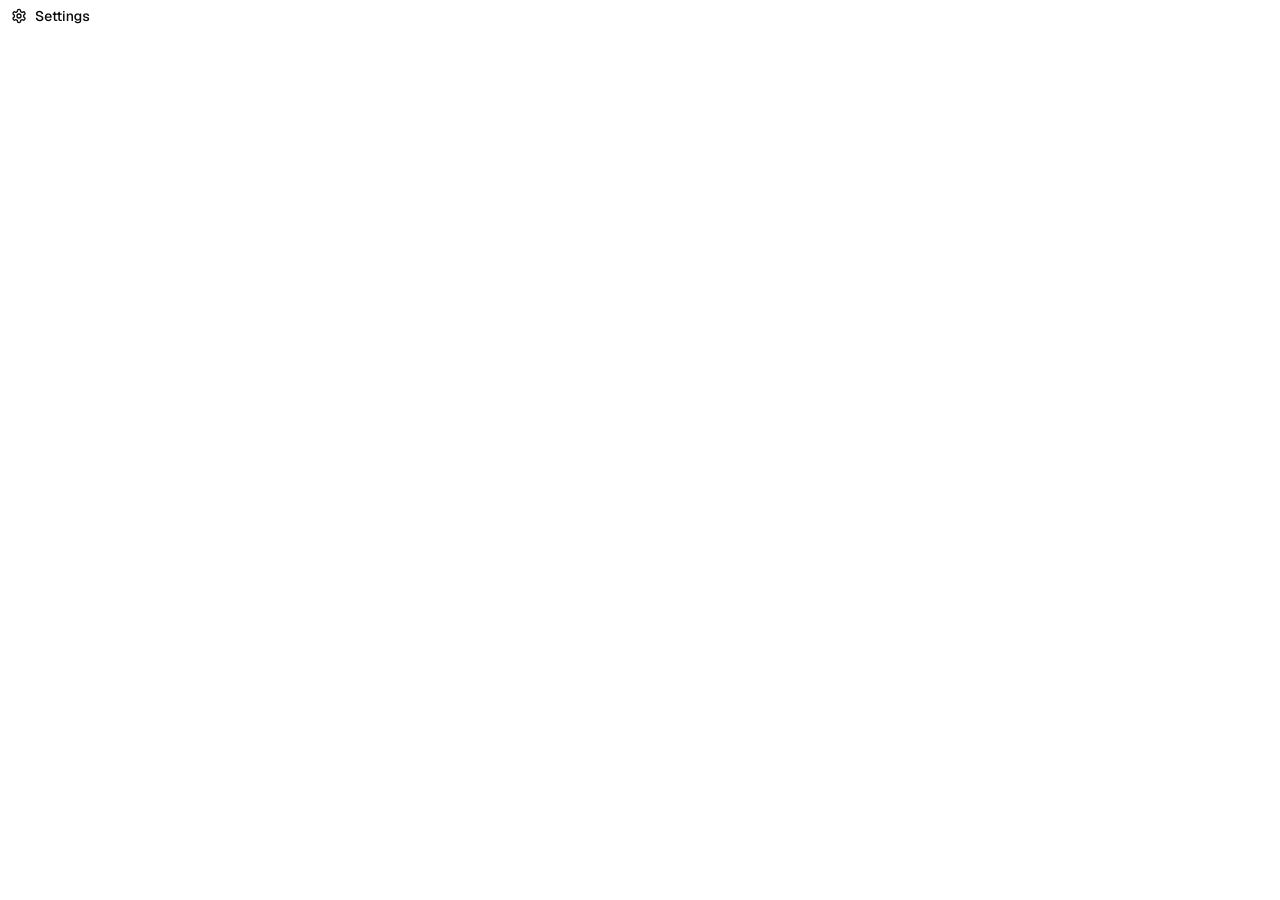
Scenario: the Settings menu entry › opens a panel that actually renders when the item is picked
This screenshot has width=1280, height=900.
Press Enter in the button "Settings", box x1=0 y1=0 x2=1279 y2=32
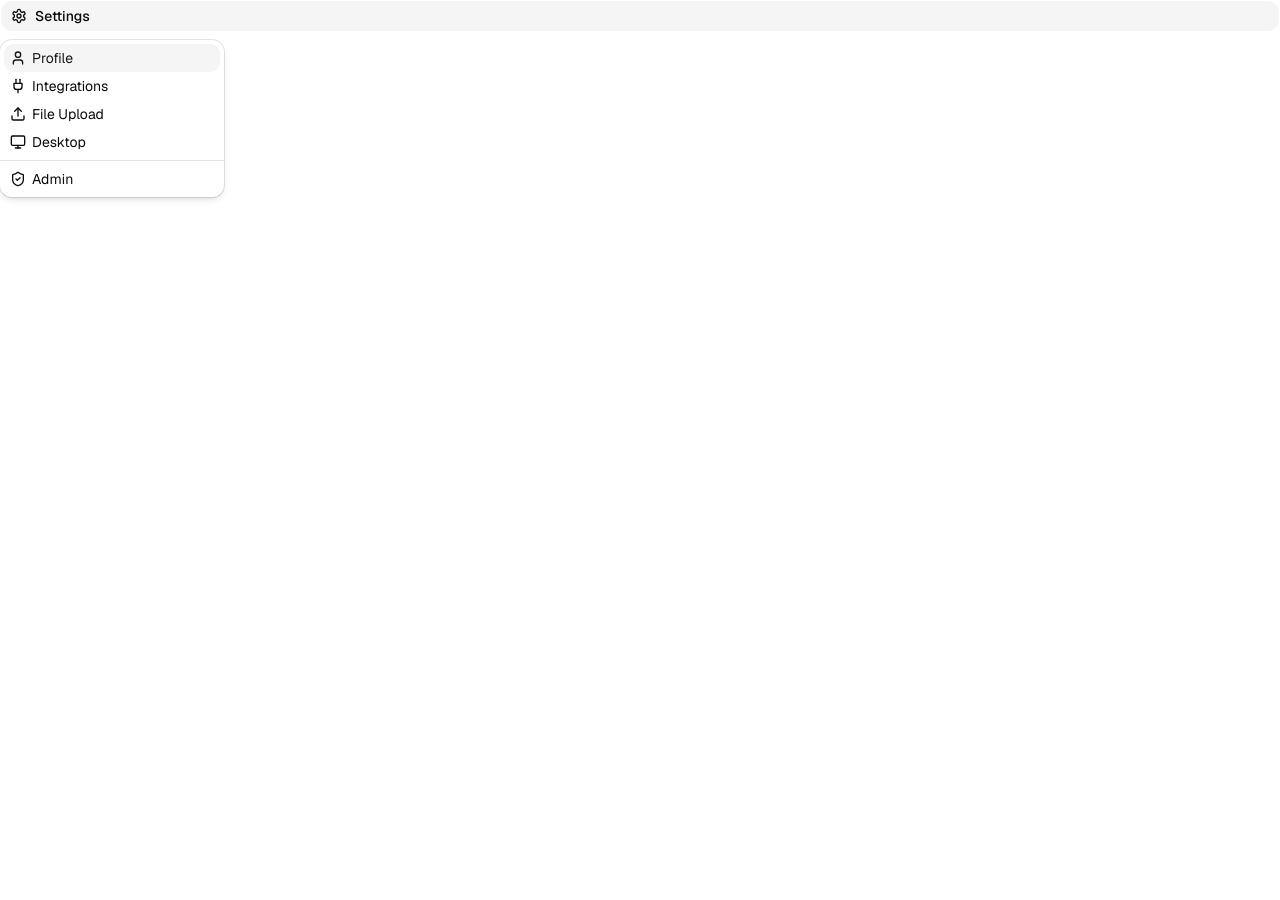
Click the menu item "File Upload" at (57, 114), box x1=10 y1=105 x2=104 y2=123
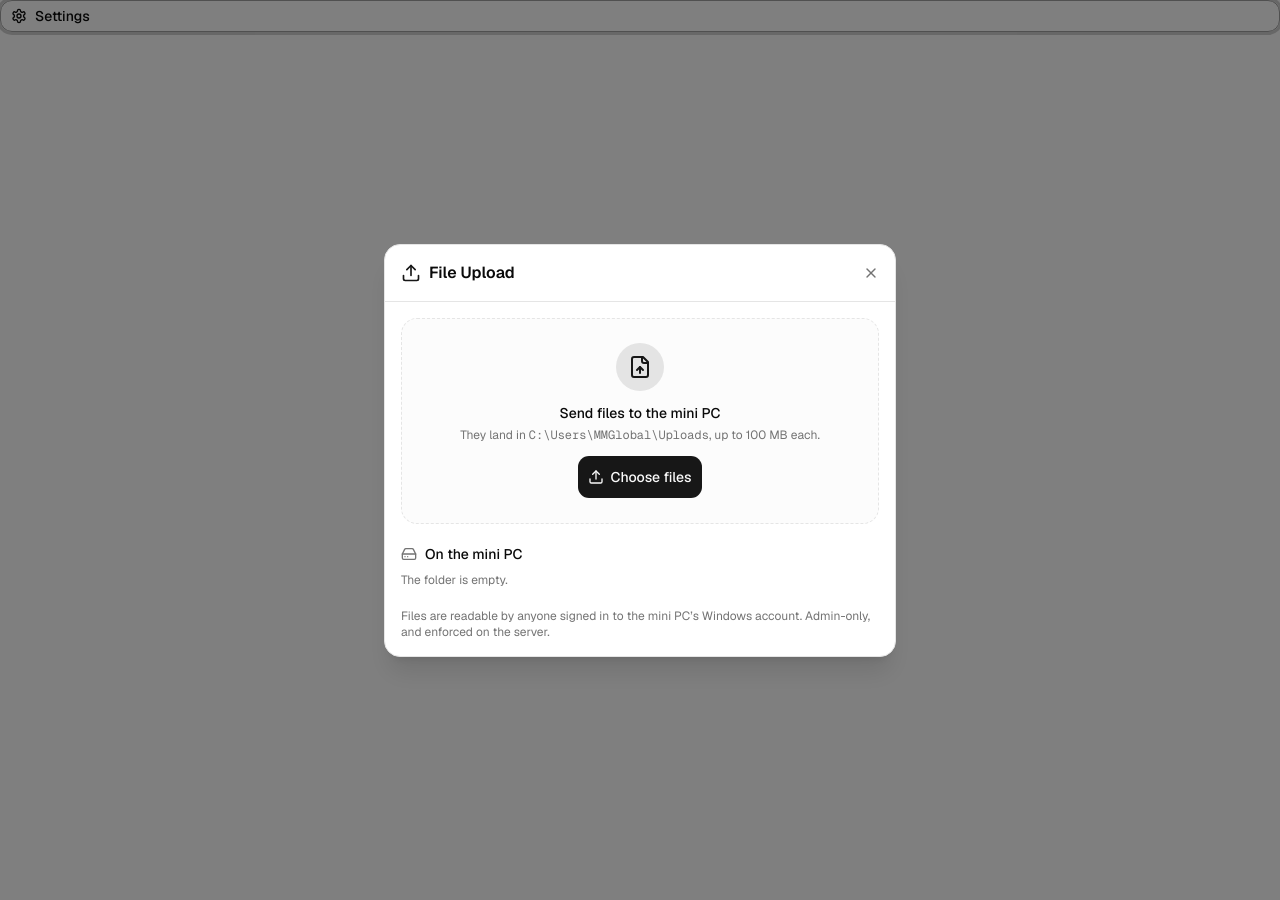
Expected: the dialog "File Upload" is shown
Expected: the text "Send files to the mini PC" is shown, x1=559 y1=404 x2=720 y2=422
